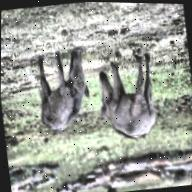boar: (16, 42, 96, 141), (92, 47, 165, 146)
